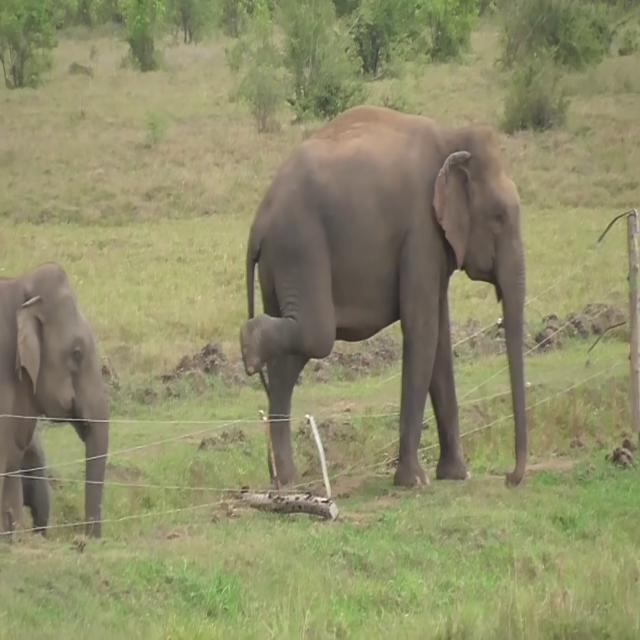Elephant: (239, 103, 528, 490), (0, 260, 109, 543)
